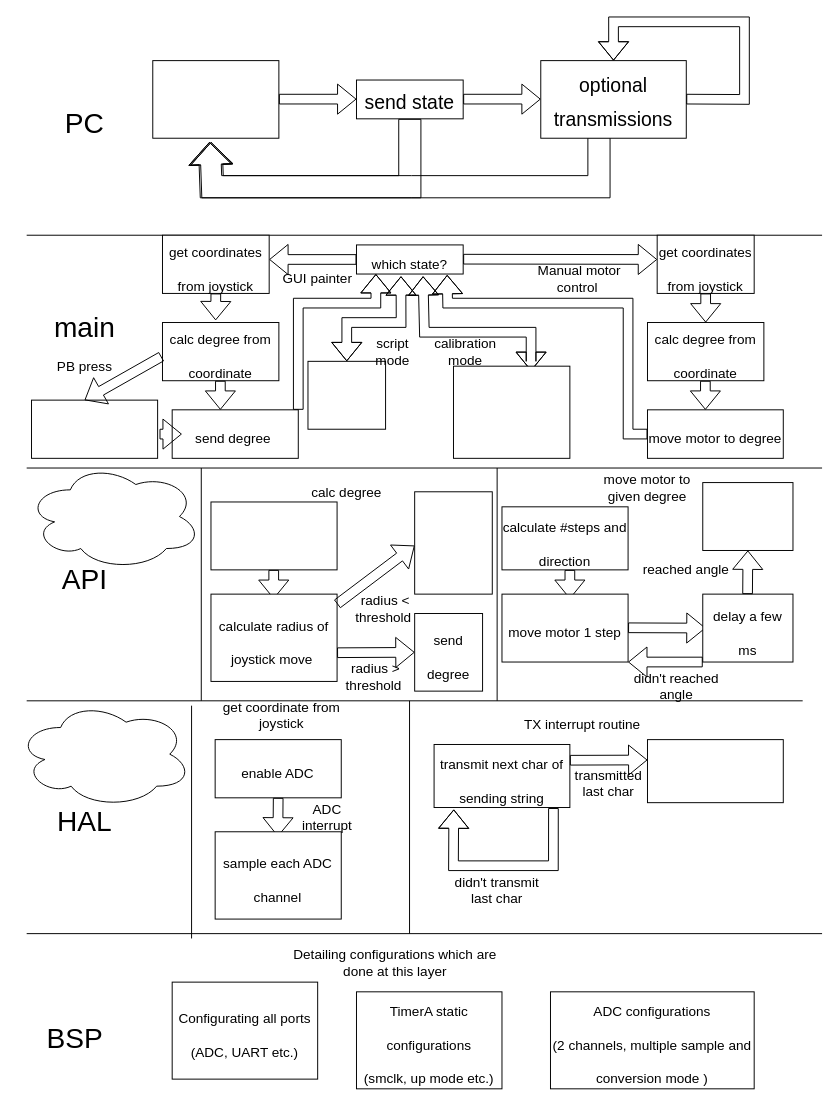
The diagram is 840 pixels wide and 1108 high, and some of its shapes have lost their labels. Each missing label, with the centre of its shape:
calculate degree of joystick move: pixel 273 535
disable TXIE and go to sleep: pixel 715 771
do next operation: pixel 346 394
examples of multiple API layer flows: pixel 113 516
examples of multiple HAL layer flows: pixel 104 754
GUI button press: pixel 215 99
move motor until interrupt from user: pixel 511 411
send "no movement": pixel 453 542
send painter mode change: pixel 94 428
stop movement: pixel 747 516
